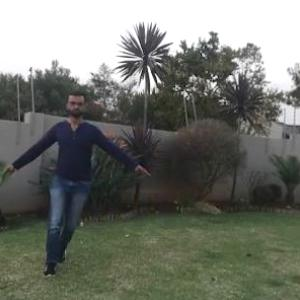land: (21, 94, 147, 248)
